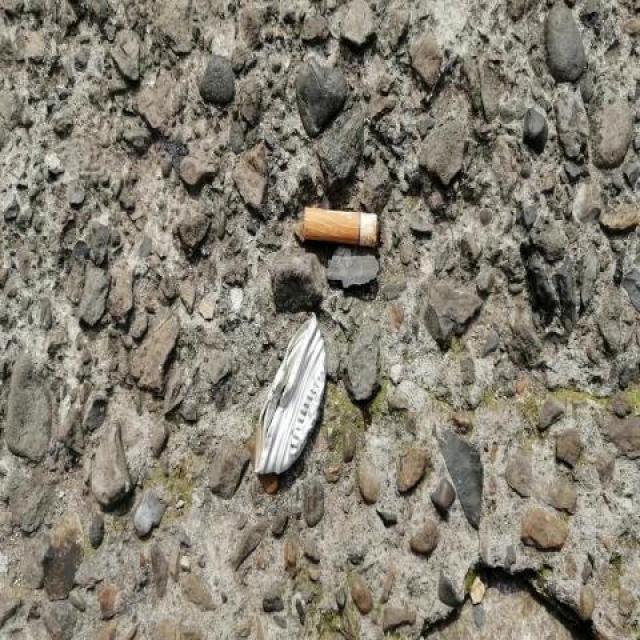non-organic waste: (299, 200, 382, 252)
